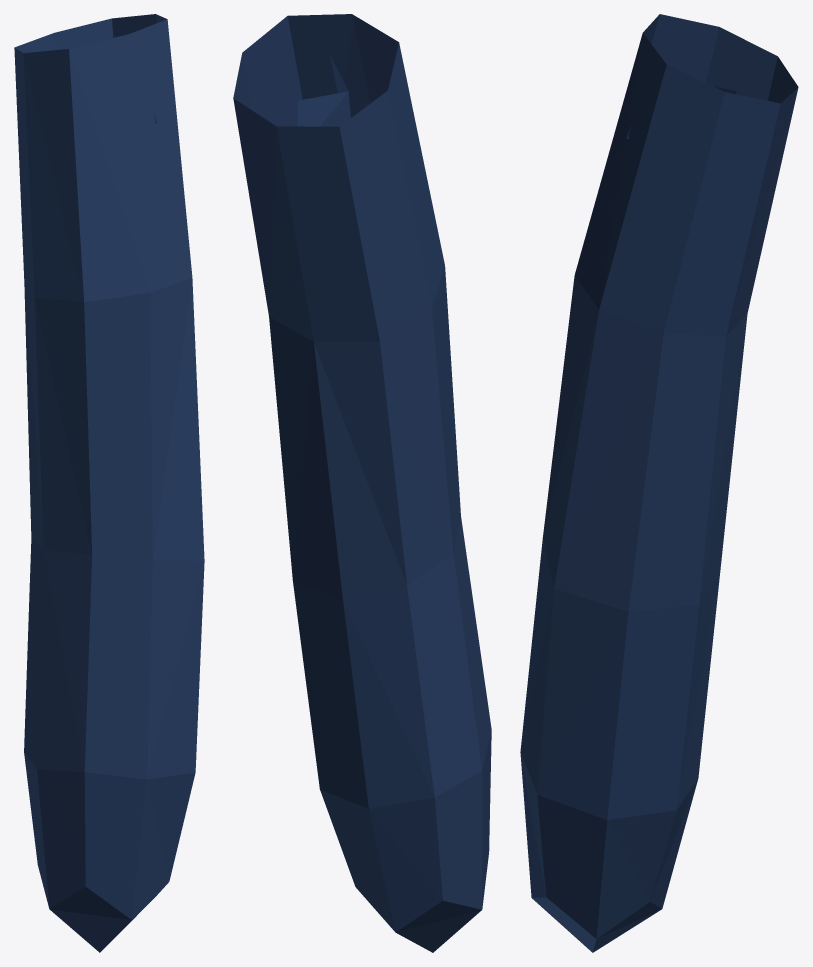
Rendered from Vena Cava Superior_2.FBX.
3 views of the same model, side by side, from view 1: azimuth 30°, elevation 25°; view 2: azimuth 150°, elevation 25°; view 3: azimuth 270°, elevation 25° (orthographic). The views are drawn at different scales.
Parts seen in each view (by area): view 1: CS_Veins; view 2: CS_Veins; view 3: CS_Veins.
Part boxes in pixels (<box>): CS_Veins: <box>14,14,204,952</box>; CS_Veins: <box>233,14,491,952</box>; CS_Veins: <box>520,14,798,952</box>.
Bounding box in the file's own units: 35.69 × 176 × 46.79.
